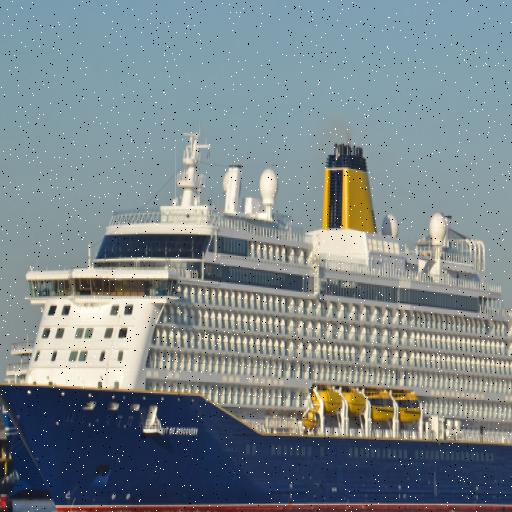cruises: (1, 124, 512, 512)
